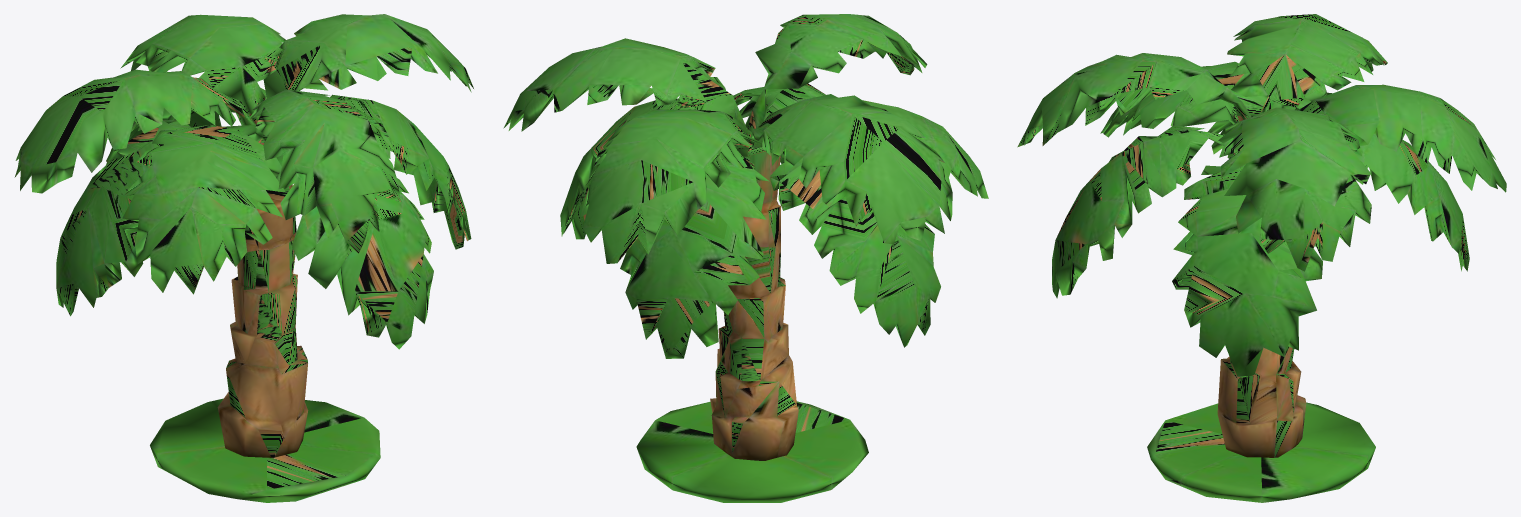
Rendered from palm-dense.glb.
3 views of the same model, side by side, from view 1: azimuth 30°, elevation 25°; view 2: azimuth 150°, elevation 25°; view 3: azimuth 270°, elevation 25° (orthographic). The views are drawn at different scales.
Parts seen in each view (by area): view 1: geometry_0; view 2: geometry_0; view 3: geometry_0.
Part boxes in pixels (x1=…): geometry_0: x1=14, y1=14, x2=473, y2=502; geometry_0: x1=503, y1=14, x2=988, y2=502; geometry_0: x1=1017, y1=14, x2=1506, y2=502.
Bounding box in the file's own units: 0.9556 × 0.8252 × 0.9424.
1 material, 1 textured.
